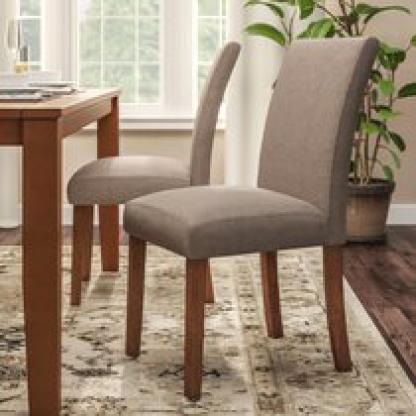chair: (112, 34, 386, 403), (63, 35, 249, 240)
table: (0, 71, 134, 415)
